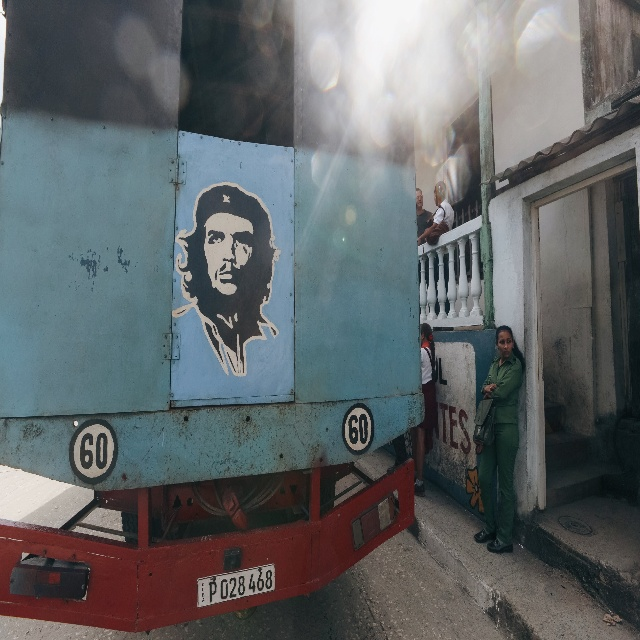Sin_guantes: (484, 382, 497, 393), (483, 393, 492, 399)
